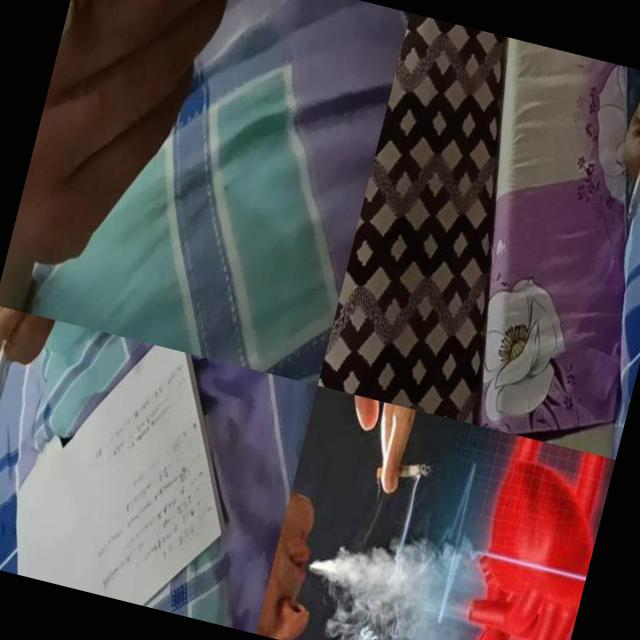cigarette: (35, 0, 117, 151), (374, 452, 432, 492), (0, 320, 14, 402), (624, 152, 640, 220)
